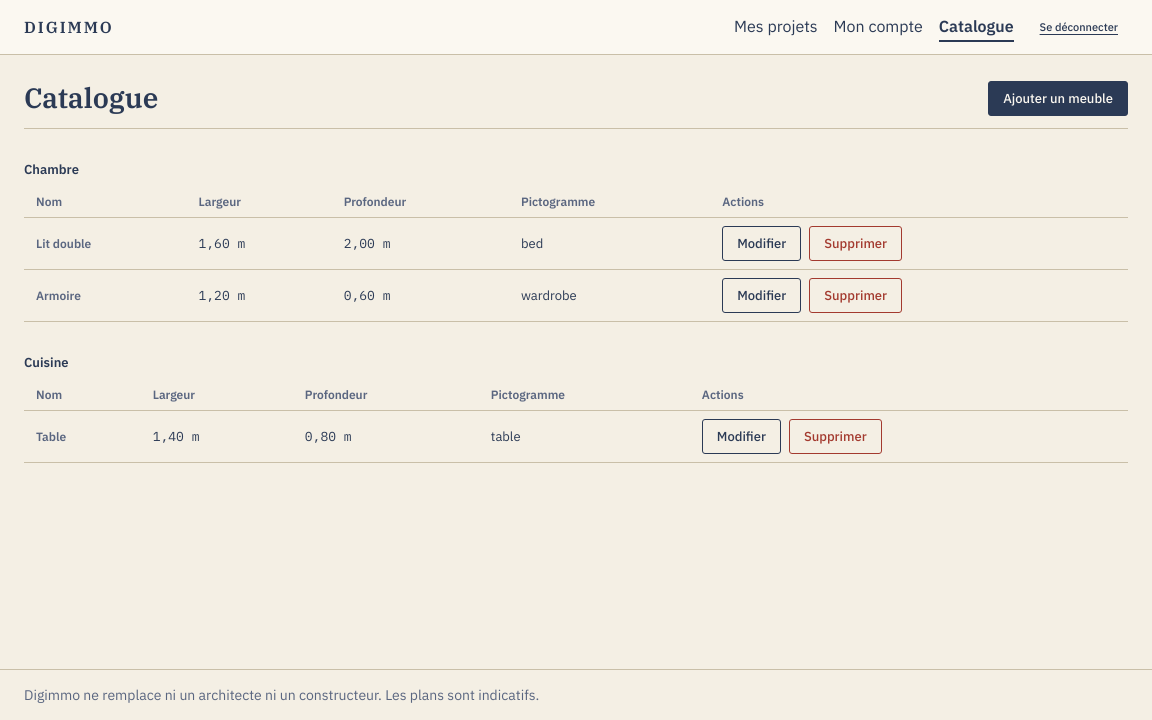
Scenario: administration du catalogue › suppression confirmée : DELETE, ligne retirée, focus sur le titre
Click the button with aria-label "Supprimer Armoire": [856, 296] box [809,278,902,313]
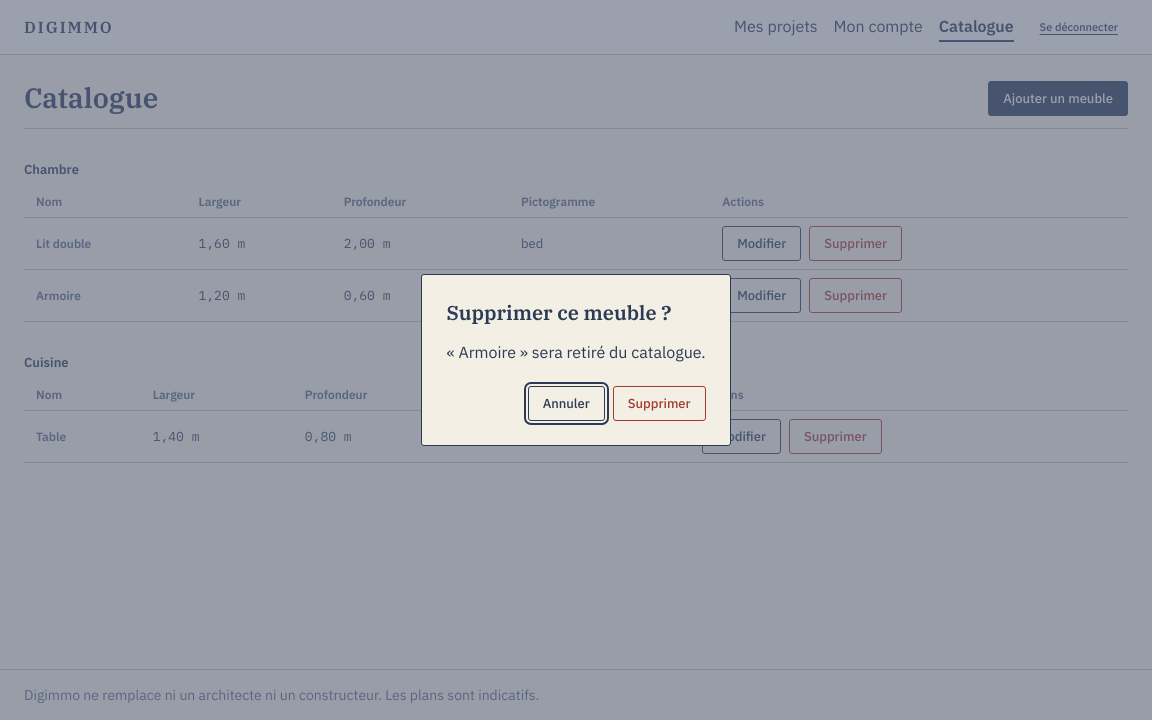
Click the button "Supprimer": [659, 404] box [613,386,706,421]
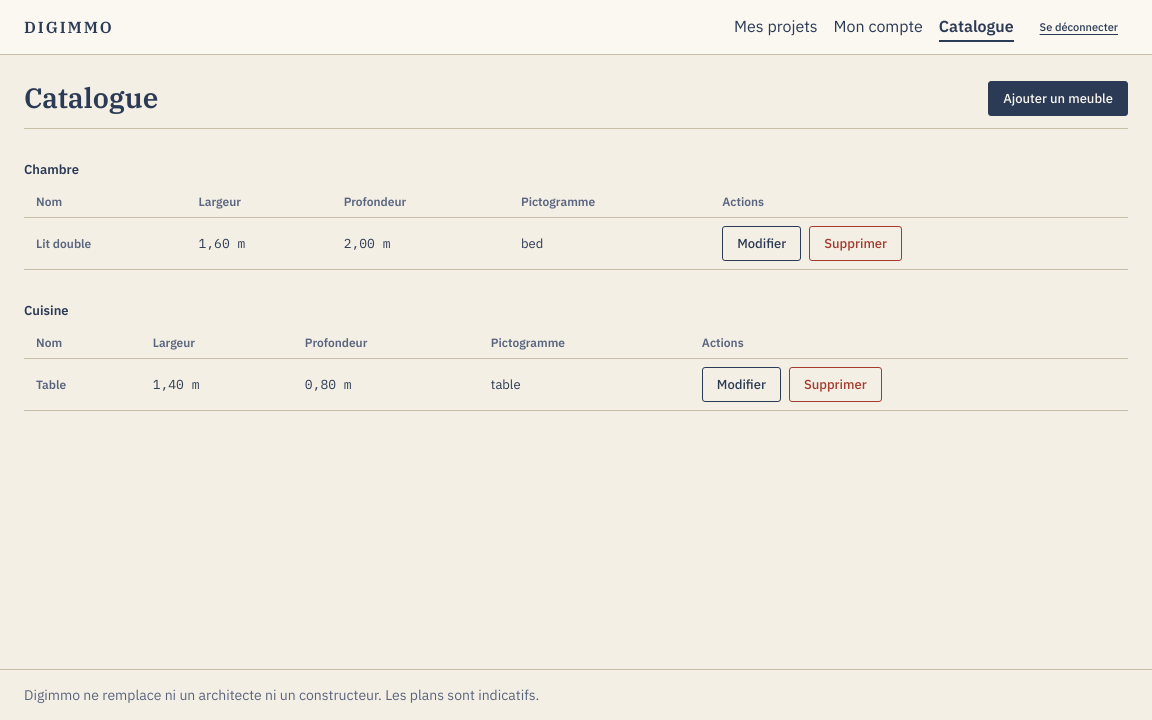
Result: the column heading "Armoire" is gone
